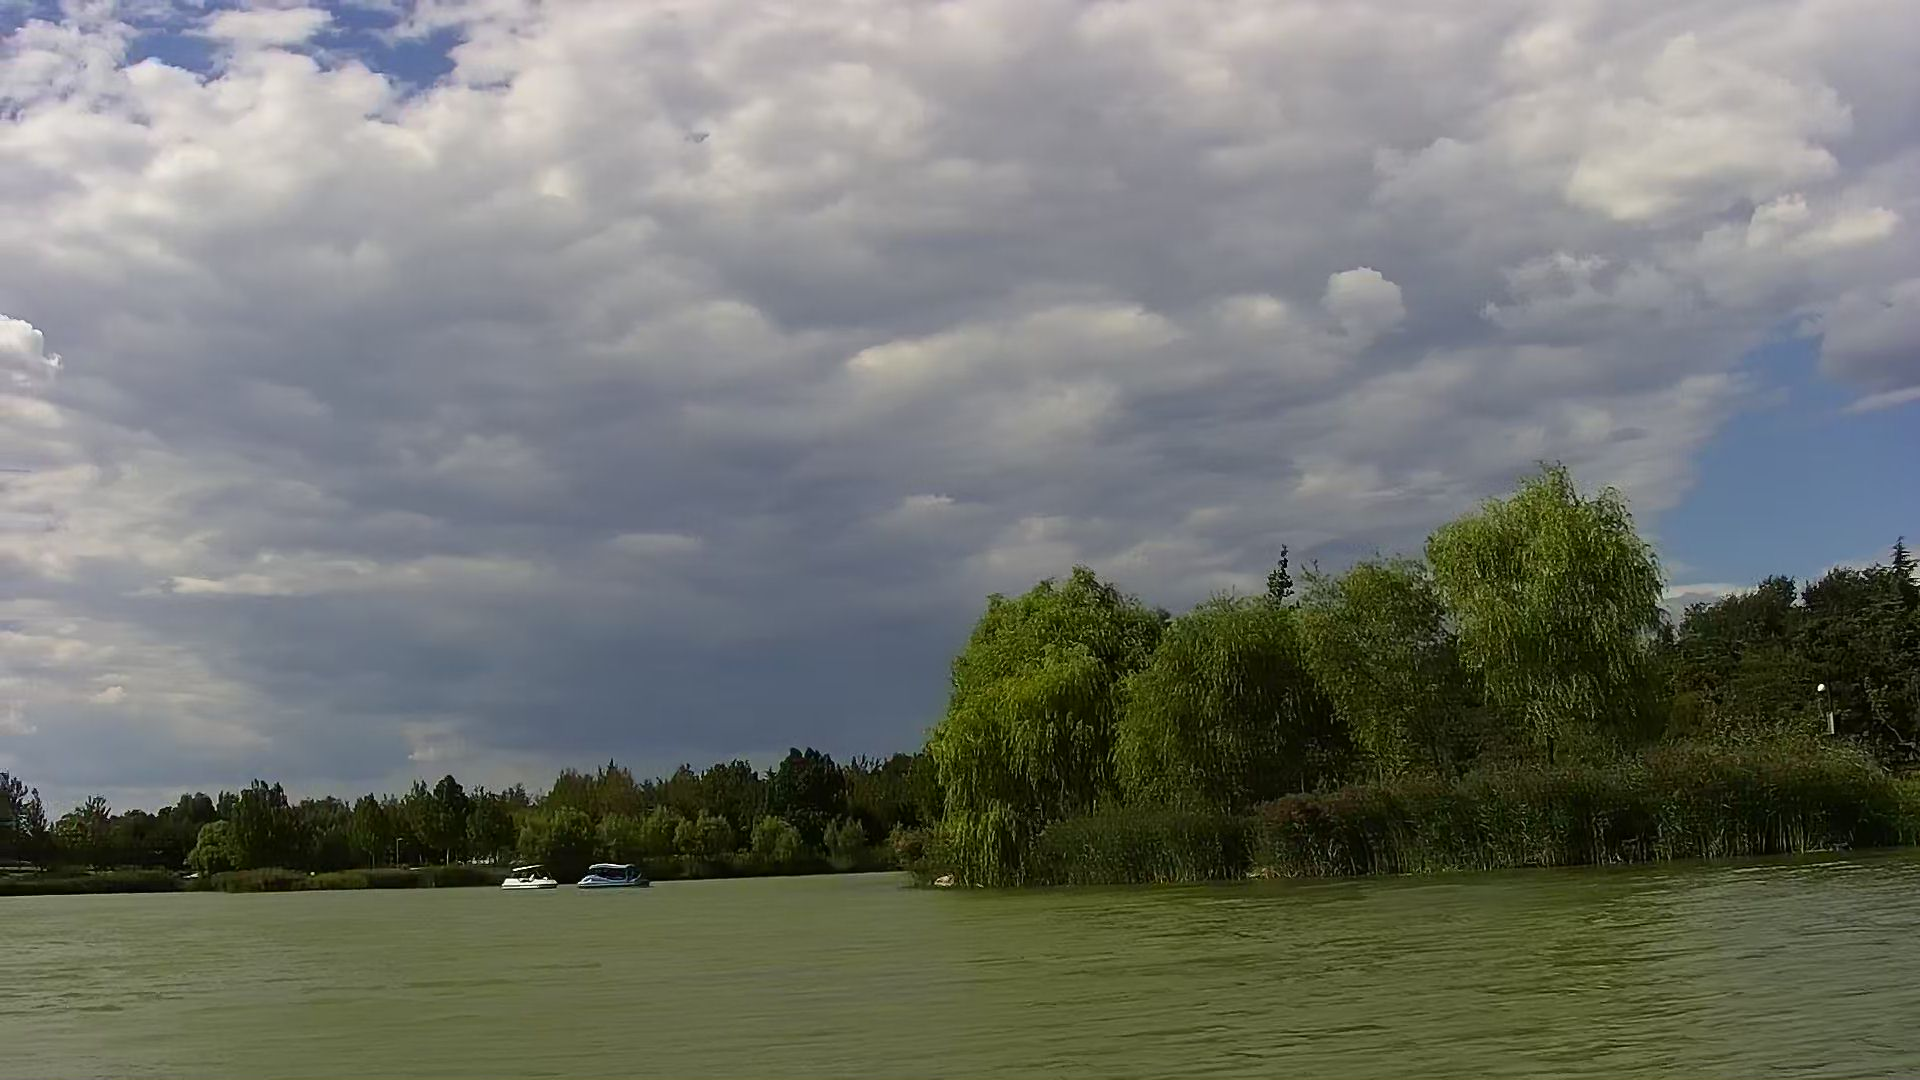boat: (582, 861, 645, 885), (500, 862, 549, 889)
rock: (932, 874, 956, 890)
